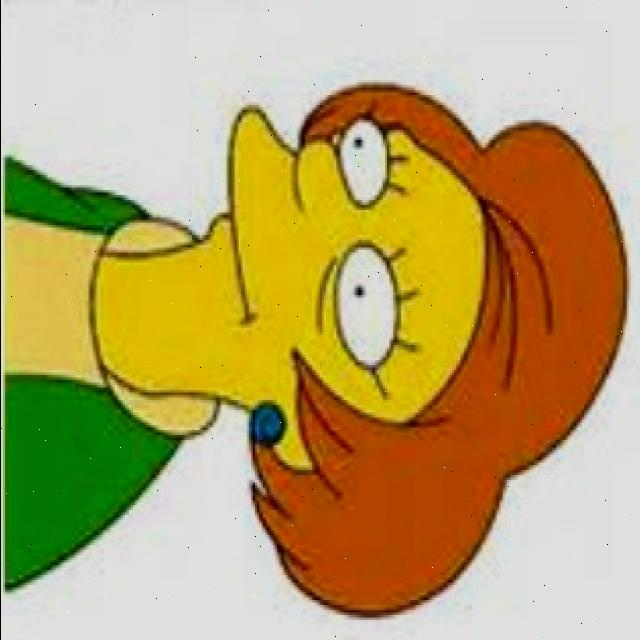Edna Krappel: (112, 80, 628, 620)
